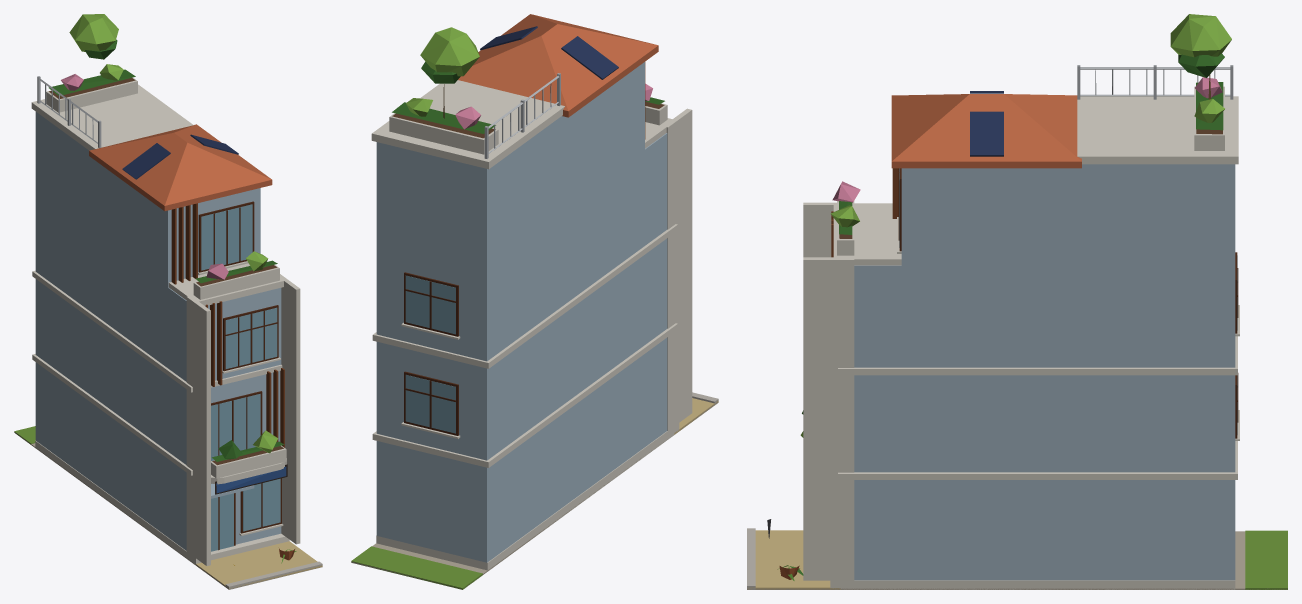
Rendered from bay2_mid.glb.
The picture shows the model from 3 angles, left to right: view 1: azimuth 30°, elevation 25°; view 2: azimuth 150°, elevation 25°; view 3: azimuth 270°, elevation 25°; orthographic projection. The views are drawn at different scales.
Visible parts, largest first — view 1: body; view 2: body; view 3: body.
Boxes of the visible parts, x1,y1,x2,y2 form: body: (14,14,322,589); body: (351,14,718,589); body: (747,14,1287,589).
Bounding box in the file's own units: 4.6 × 17.63 × 15.9.
